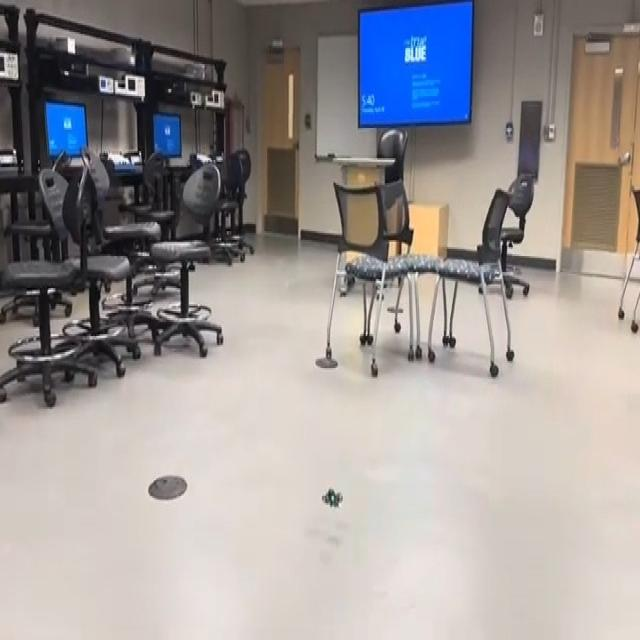drone: (312, 470, 354, 522)
